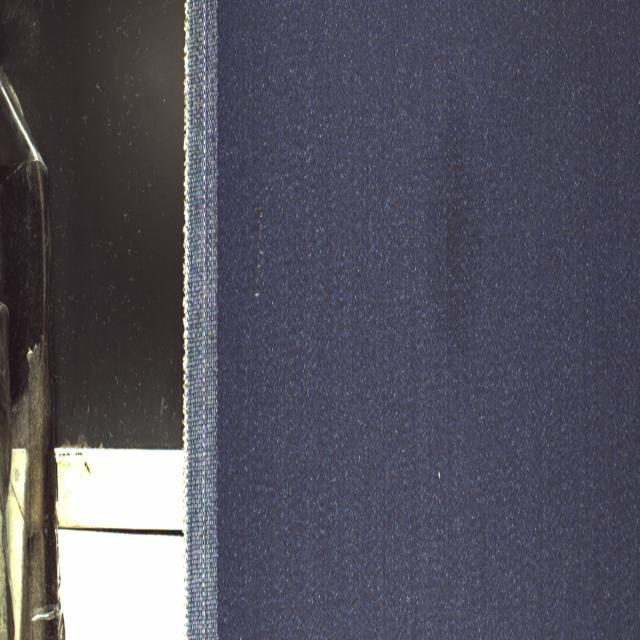Stain: (429, 54, 478, 378)
